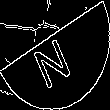N_NW: (32, 23, 78, 87)
